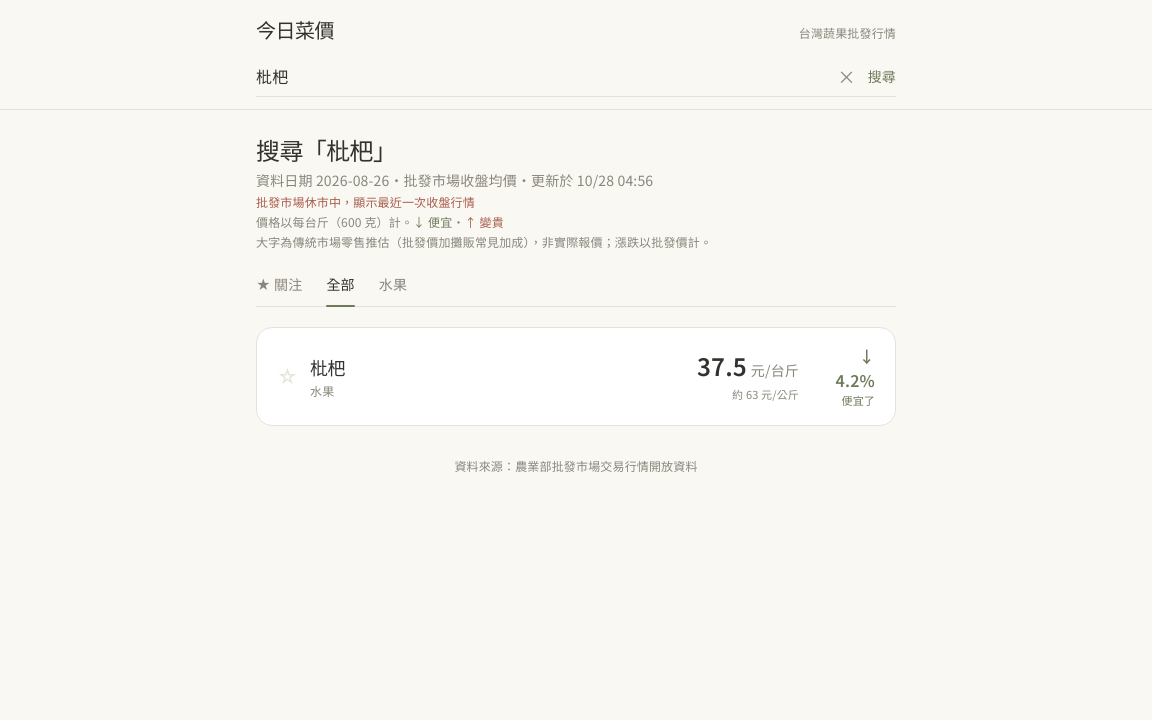
Test case: App — a shared live-search result › does not let a pending keystroke close a card just tapped
Replace the text in the search field with placeholder "搜尋蔬果（例如：高麗菜、番茄）" with "高". click: (541, 76)
box: left=256, top=56, right=826, bottom=96
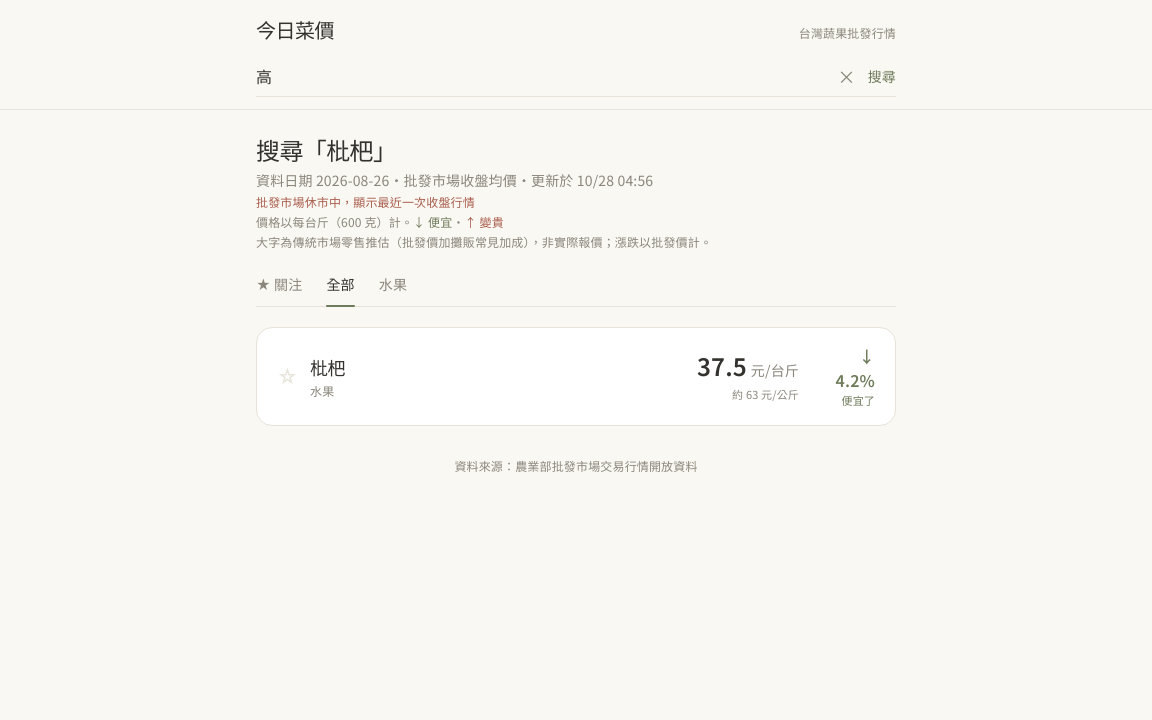
Click the heading "枇杷". click: (328, 367)
box: left=310, top=353, right=345, bottom=381
Wait 600 ms
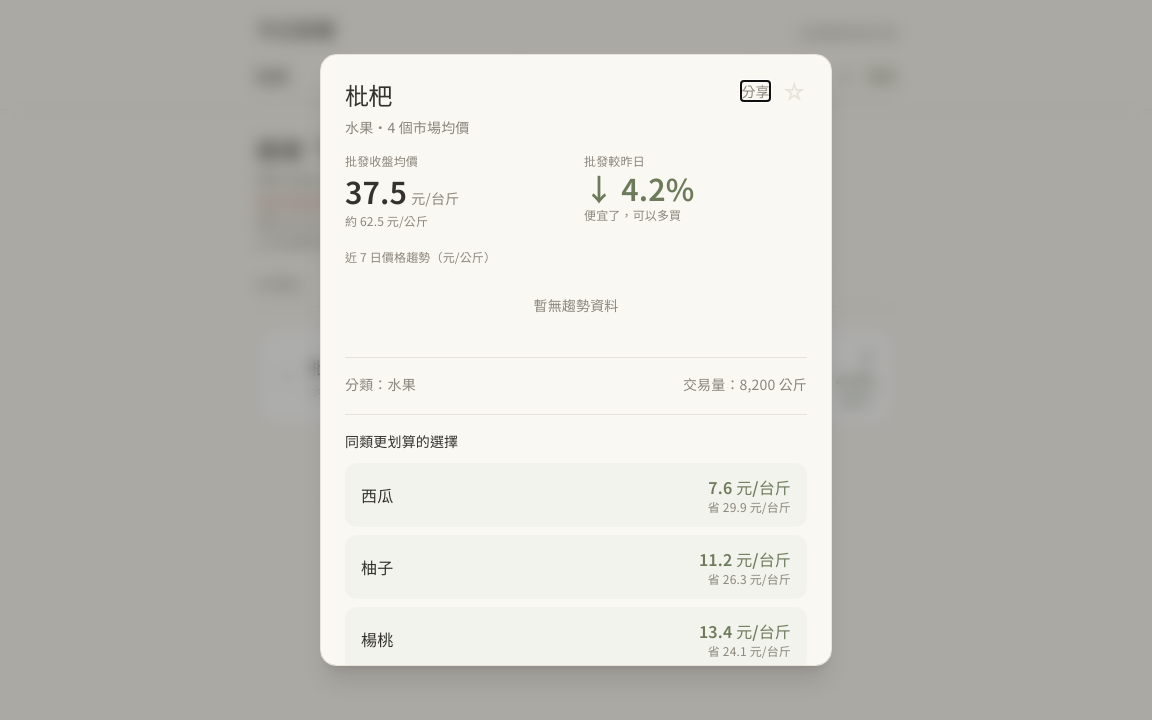
Expected: the dialog with test id "detail-drawer" is shown, left=320, top=54, right=832, bottom=666
